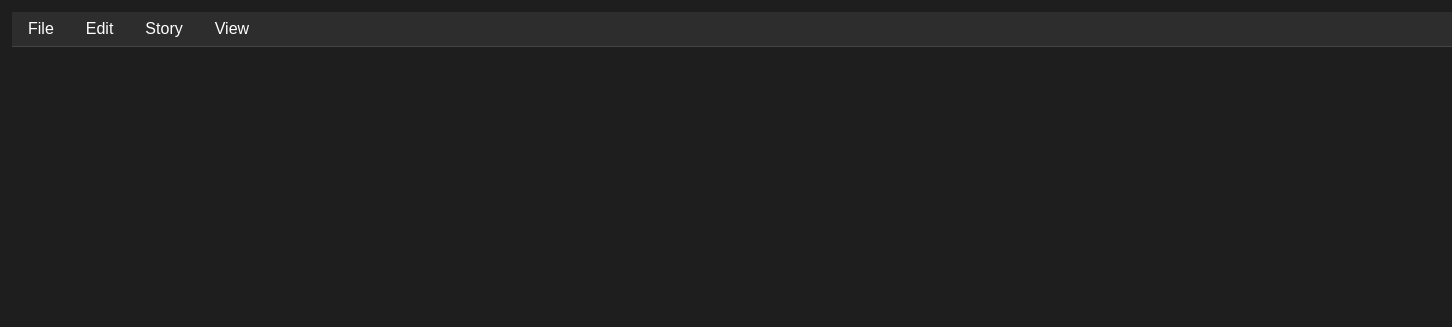
it: Feature: Menu Bar Component › Scenario: User switches between menus › Given a menu is open, When another menu is clicked, Then the first menu should close and the second should open
The width and height of the screenshot is (1452, 327).
Open File menu
Click the button "File" at (41,29), box [12,12,70,46]
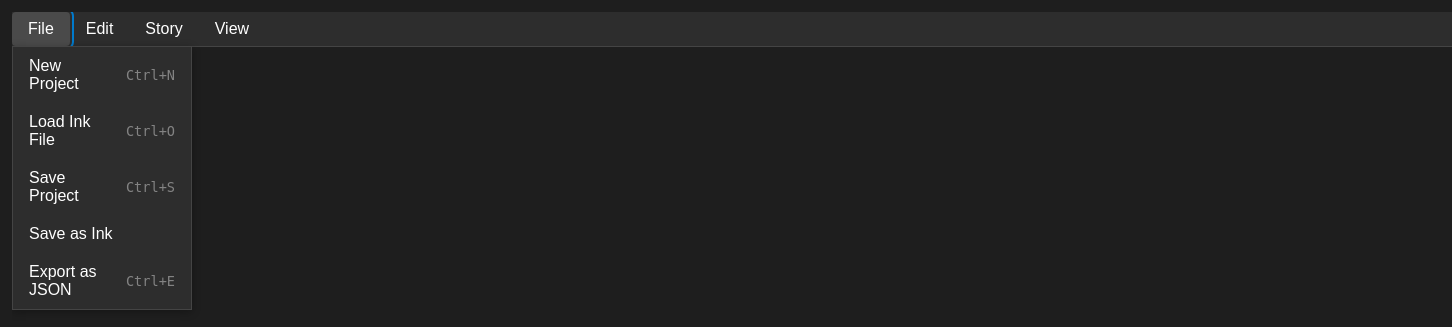
Expected: the text "New Project" is shown, [29,57,79,92]
Open Edit menu
Click the button "Edit" at (100,29), box [70,12,129,46]
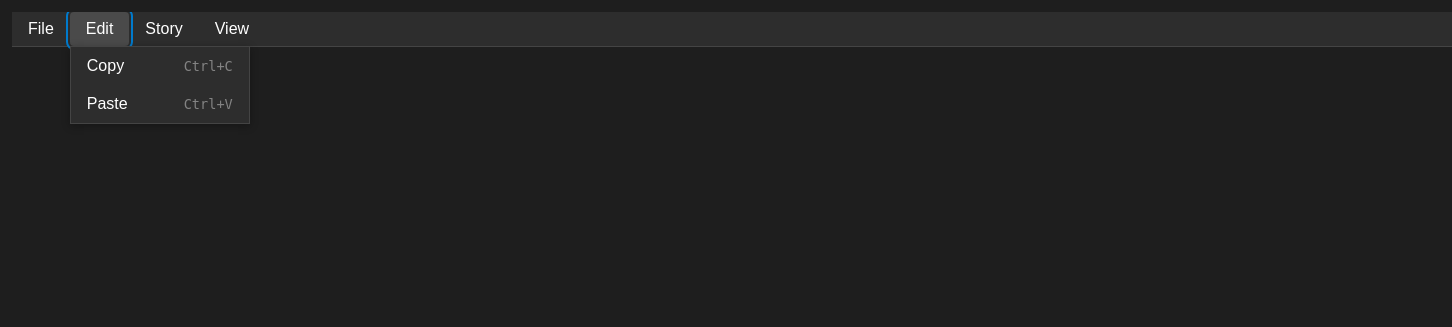
Expected: the menu item "New Project" is gone
Expected: the text "Copy" is shown, [87,57,124,75]
